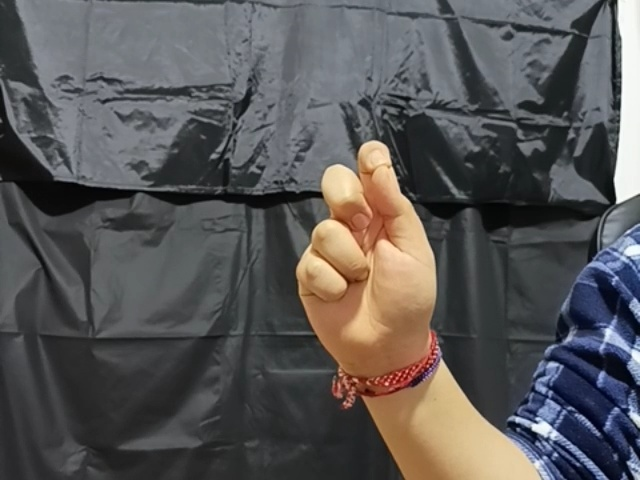T: (287, 137, 440, 345)
